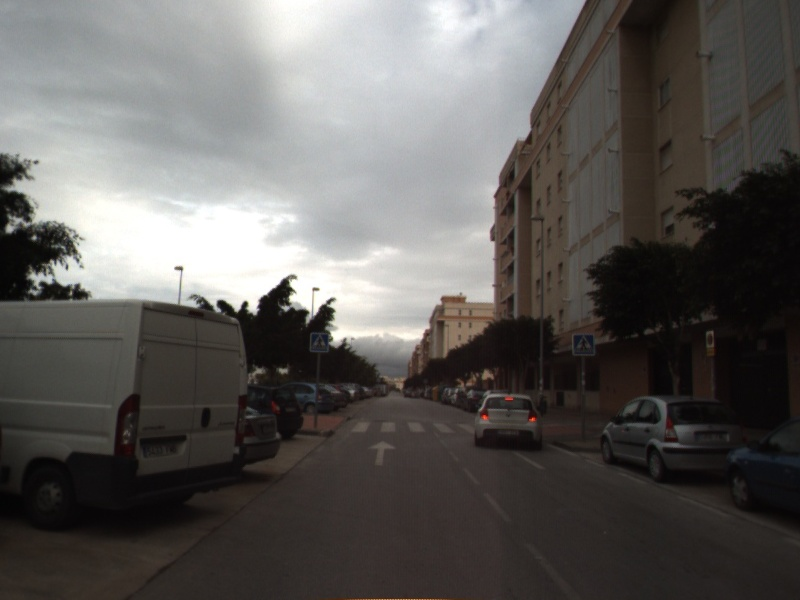STRAIGHT: (366, 439, 398, 468)
